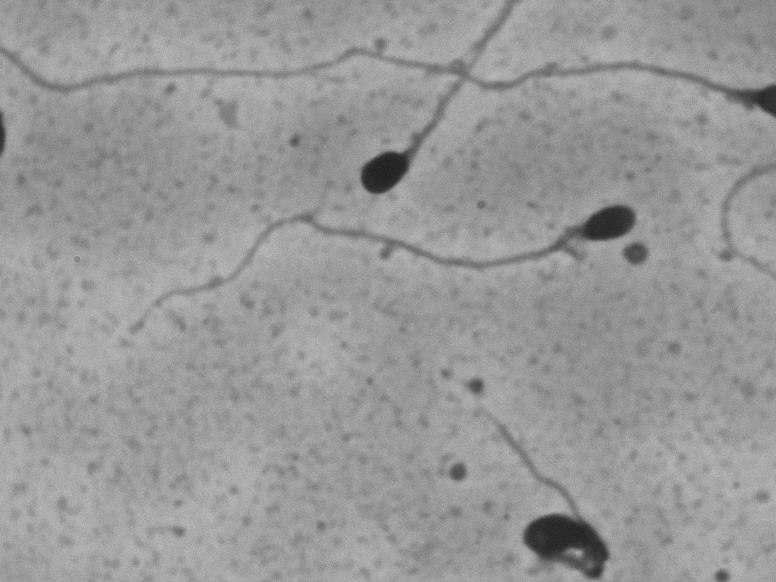Abnormal: (323, 20, 498, 205), (476, 410, 635, 576)
Normal: (117, 187, 653, 347)
